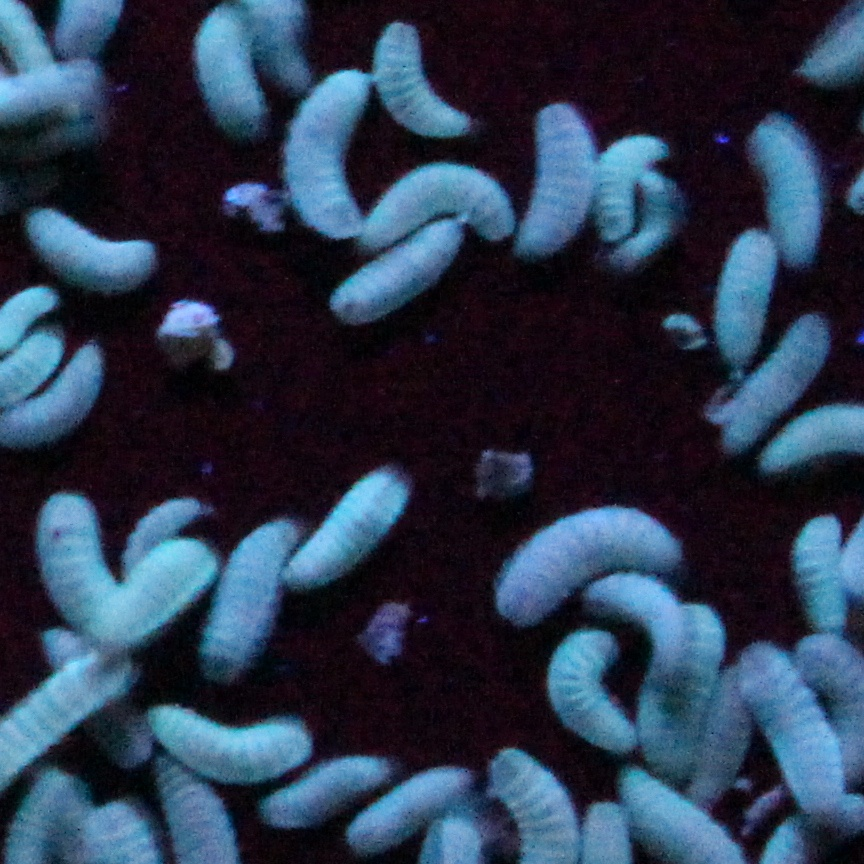larve: (507, 515, 656, 601), (207, 531, 290, 670), (751, 118, 832, 252), (42, 212, 164, 299), (110, 552, 215, 653), (761, 654, 834, 796), (736, 323, 815, 452), (644, 601, 702, 769), (307, 473, 395, 580), (297, 74, 354, 232), (378, 28, 458, 132), (373, 181, 490, 252), (527, 118, 588, 247), (356, 772, 472, 839), (44, 490, 103, 619), (556, 635, 627, 742), (697, 664, 749, 803), (17, 357, 103, 440), (274, 757, 380, 821), (344, 242, 449, 306), (167, 716, 308, 763), (610, 574, 680, 662), (210, 18, 263, 128), (802, 530, 854, 642), (729, 240, 771, 362), (133, 499, 205, 567), (605, 137, 649, 235), (649, 169, 673, 247)
